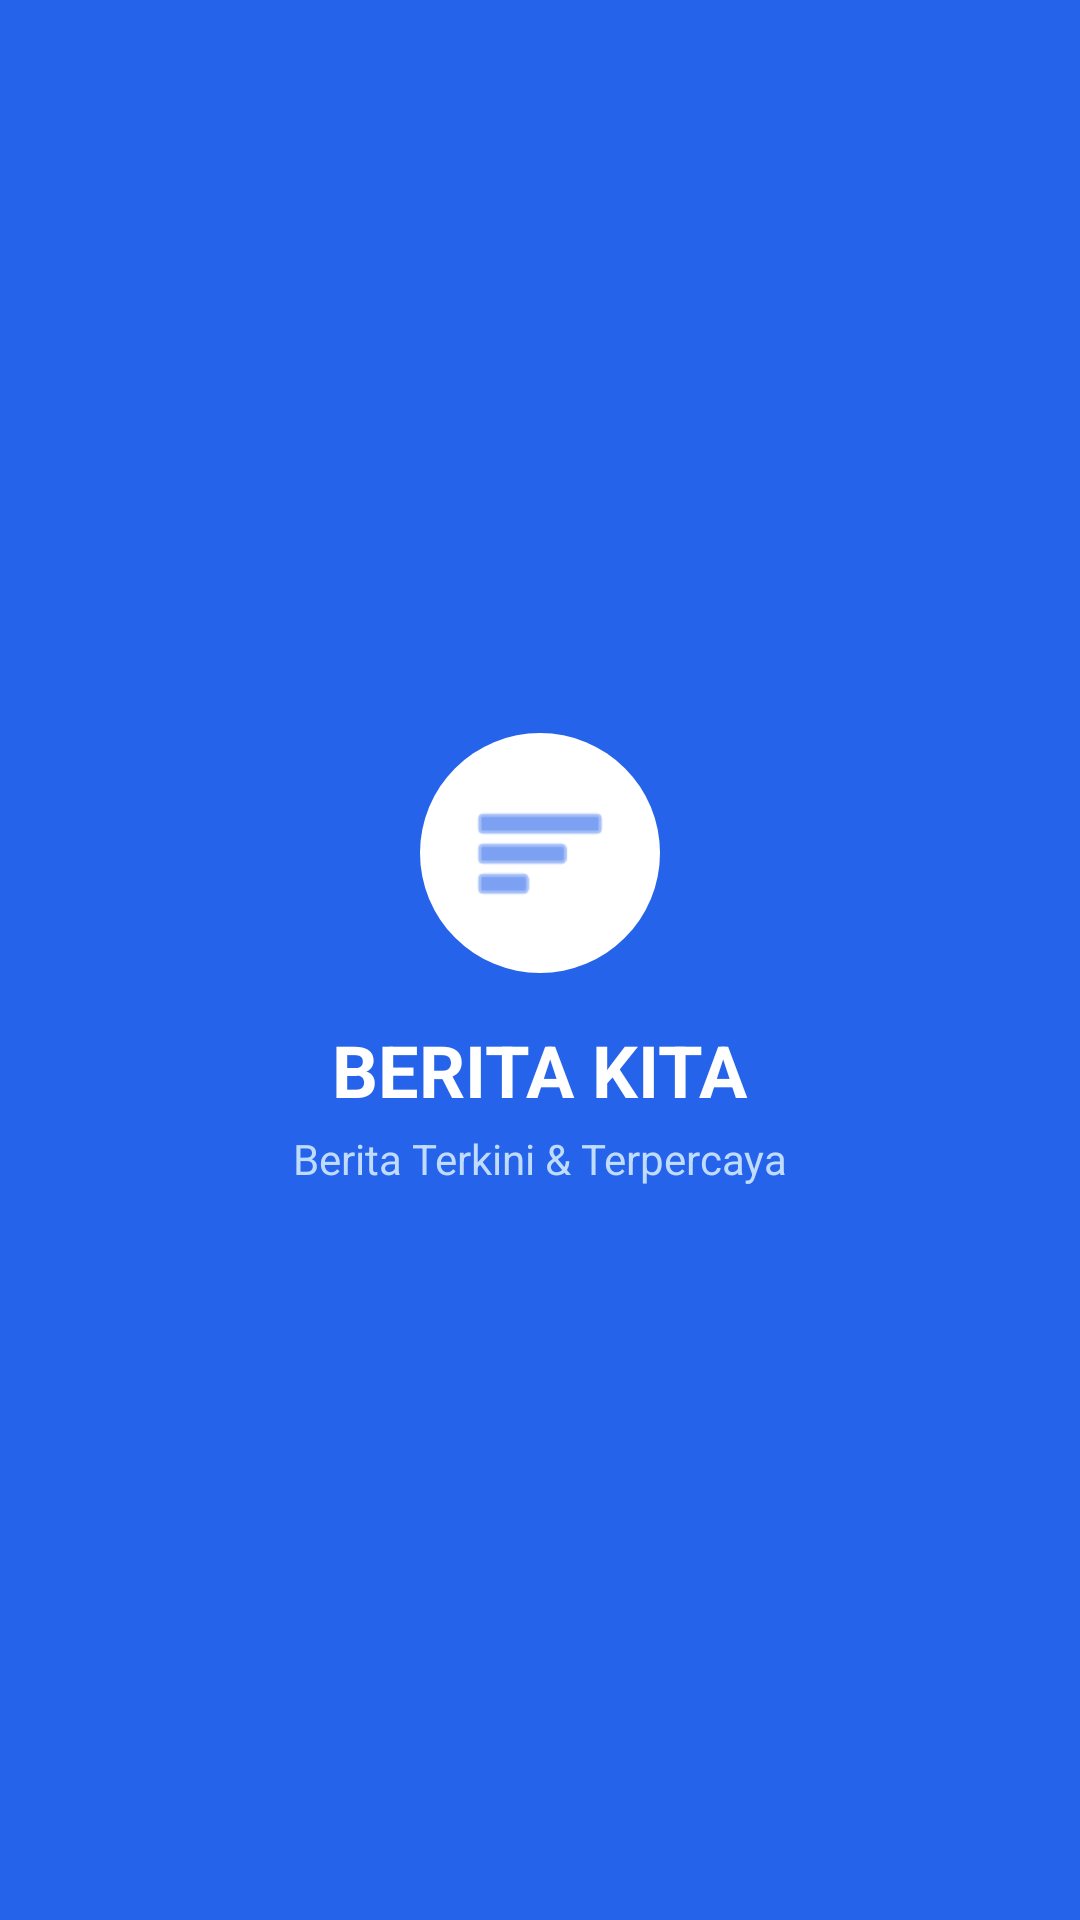

Point at icon controls on the screen. Image size 1080 x 1920, points as (x=x, y=y).
sort by size: (x=540, y=853)
